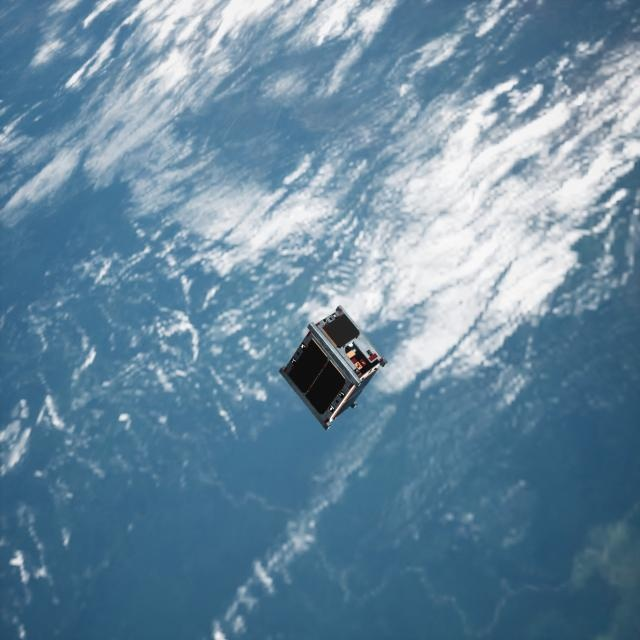medium_debris: (265, 304, 390, 434)
